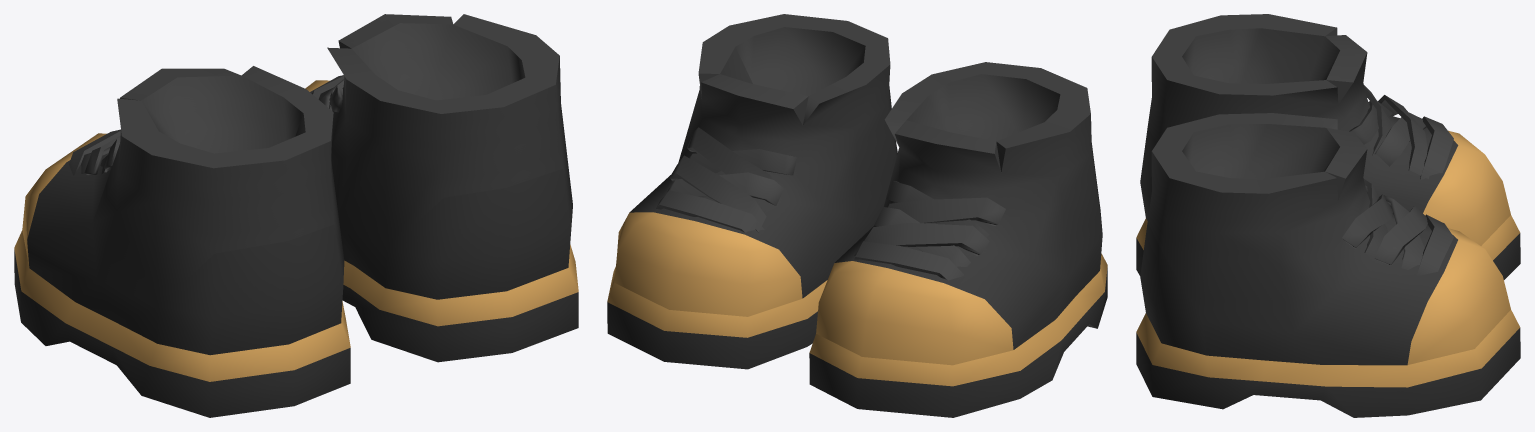
The model's file is Shoes_18.fbx.
3 views of the same model, side by side, from view 1: azimuth 30°, elevation 25°; view 2: azimuth 150°, elevation 25°; view 3: azimuth 270°, elevation 25° (orthographic). The views are drawn at different scales.
Visible parts, largest first — view 1: Shoes_18; view 2: Shoes_18; view 3: Shoes_18.
Boxes of the visible parts, <box> form: Shoes_18: <box>14,14,578,417</box>; Shoes_18: <box>607,14,1107,417</box>; Shoes_18: <box>1136,14,1520,417</box>.
Size of the model in its own units: 44.09 by 21.97 by 35.05.
